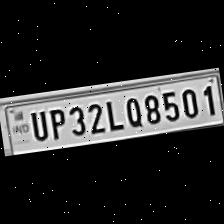0: (176, 85, 200, 120)
1: (198, 82, 220, 117)
2: (82, 99, 106, 136)
3: (62, 102, 86, 138)
5: (158, 87, 182, 123)
8: (140, 90, 162, 127)
L: (101, 96, 124, 134)
P: (45, 105, 69, 142)
Q: (120, 93, 144, 129)
U: (26, 108, 48, 143)
